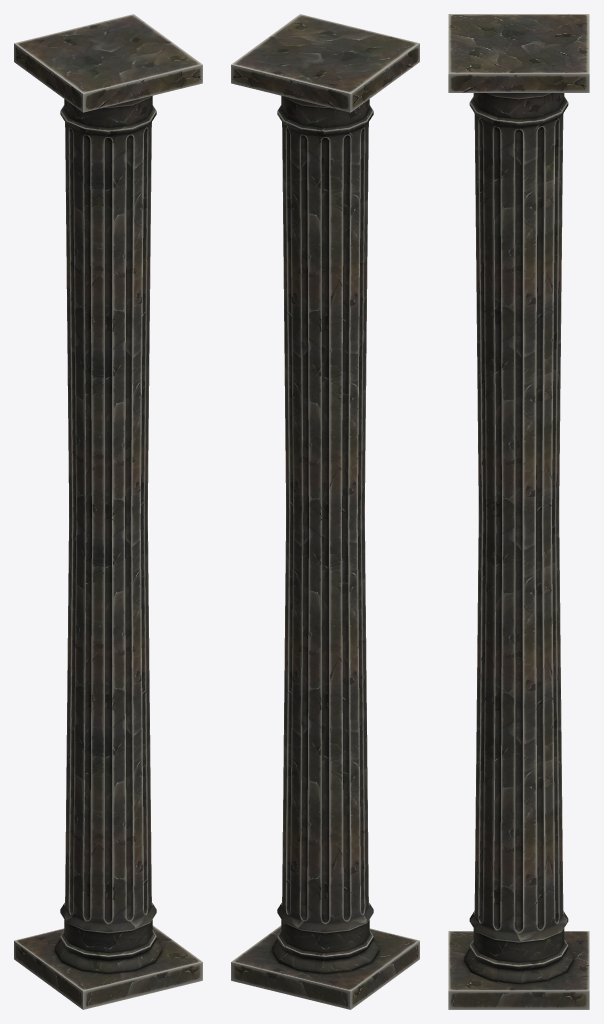
Rendered from Column1F.fbx.
The picture shows the model from 3 angles, left to right: view 1: azimuth 30°, elevation 25°; view 2: azimuth 150°, elevation 25°; view 3: azimuth 270°, elevation 25°; orthographic projection. The views are drawn at different scales.
Parts seen in each view (by area): view 1: column1_LOD0; view 2: column1_LOD0; view 3: column1_LOD0.
Boxes of the visible parts, x1,y1,x2,y2 form: column1_LOD0: [14, 14, 202, 1009]; column1_LOD0: [231, 14, 419, 1009]; column1_LOD0: [448, 14, 589, 1009].
Size of what is drawn, in the model's own units: 85.57 by 625 by 85.57.
